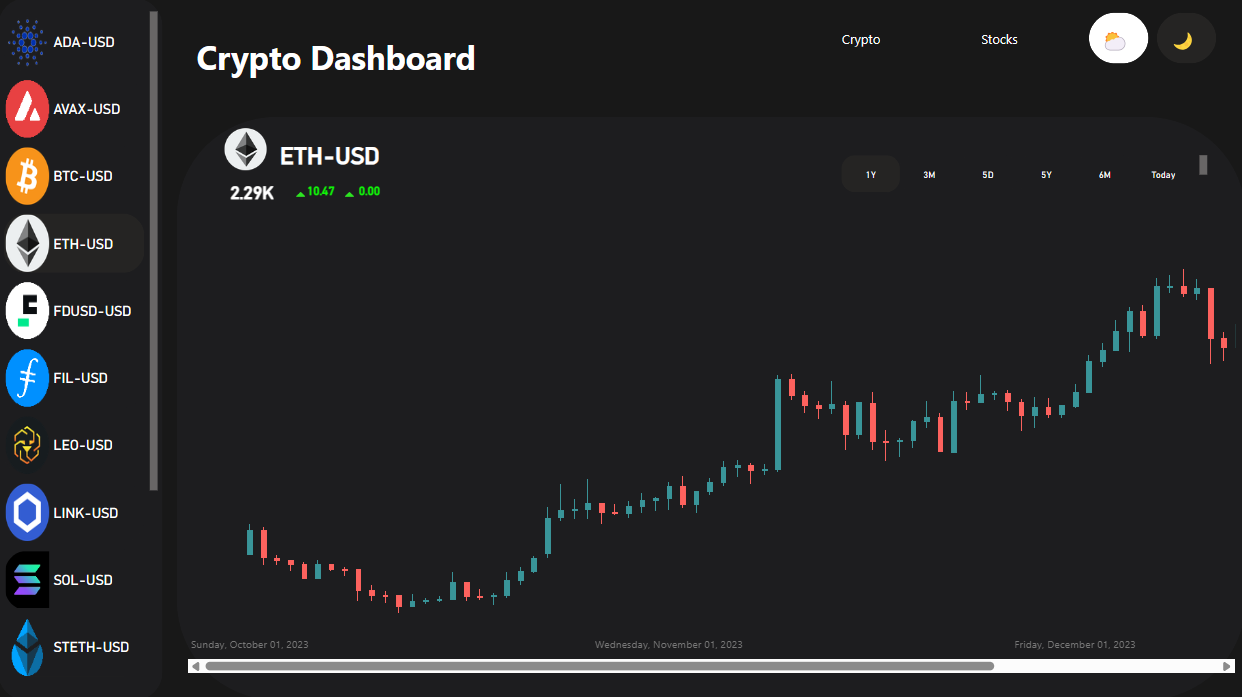

The dashboard page shown, as its layout file describes it:
{"tool":"powerbi","page":{"name":"Crypto","canvas":[1280,720],"ordinal":0},"visuals":[{"type":"shape","box":[0,0,1280.3,720.4],"z":0},{"type":"shape","box":[183.9,122.1,1096.4,598.3],"z":1000},{"type":"shape","box":[0,0,168.8,720.4],"z":2000},{"type":"PBI_CV_886A053E_9DFD_4EA0_A47D_CCAEB89AF969","fields":{"Category":["Stocks Data.Date"],"open":["Sum(Stocks Data.Open)"],"close":["Sum(Stocks Data.Close)"],"high":["Sum(Stocks Data.High)"],"low":["Sum(Stocks Data.Low)"]},"box":[183.4,212.8,1096.9,485.5],"z":3000},{"type":"advancedSlicerVisual","fields":{"Values":["Stocks Data.Symbol"]},"box":[1.4,9.6,167.4,698.5],"z":4000},{"type":"advancedSlicerVisual","fields":{"Values":["Stocks Data.Data Category"]},"box":[859.7,156.5,385.2,48.9],"z":5000},{"type":"advancedSlicerVisual","fields":{"Values":["Color Codes.Label"]},"box":[1114,9.8,141.8,62.4],"z":6000},{"type":"cardVisual","fields":{"Data":["Min(Stocks Data.Logo)"]},"box":[211.3,116.6,89.2,79.6],"z":7000},{"type":"cardVisual","fields":{"Data":["Min(Stocks Data.Symbol)"]},"box":[278.6,130.4,124.9,52.1],"z":8000},{"type":"cardVisual","fields":{"Data":["Stocks Data.Open_Value"]},"box":[211.3,164.7,98.8,54.9],"z":9000},{"type":"cardVisual","fields":{"Data":["Stocks Data.Open_Close_diff"]},"box":[291,166,80,57],"z":10000},{"type":"cardVisual","fields":{"Data":["Stocks Data.Diff_%"]},"box":[341,166,80,57],"z":11000},{"type":"cardVisual","fields":{"Data":["Min(Stocks Data.Logo)"]},"box":[288,172,43,40],"z":12000},{"type":"cardVisual","fields":{"Data":["Min(Stocks Data.Logo)"]},"box":[338,172,43,40],"z":13000},{"type":"shape","box":[198.1,9.8,454.9,100.3],"z":14000},{"type":"pageNavigator","box":[819.2,17.9,274.4,47.4],"z":14001}]}

Visuals, with their boxes in screenshot pixels (x1, y1, x2, y2), scaled from the page's 1280x720 canvas onto the 1242x697 screenshot:
shape: {"left": 0, "top": 0, "right": 1241, "bottom": 696}
shape: {"left": 178, "top": 118, "right": 1241, "bottom": 696}
shape: {"left": 0, "top": 0, "right": 164, "bottom": 696}
PBI_CV_886A053E_9DFD_4EA0_A47D_CCAEB89AF969 - Stocks Data.Date x Sum(Stocks Data.Open): {"left": 178, "top": 206, "right": 1241, "bottom": 676}
advancedSlicerVisual - Stocks Data.Symbol: {"left": 1, "top": 9, "right": 164, "bottom": 685}
advancedSlicerVisual - Stocks Data.Data Category: {"left": 834, "top": 152, "right": 1208, "bottom": 199}
advancedSlicerVisual - Color Codes.Label: {"left": 1081, "top": 9, "right": 1219, "bottom": 70}
cardVisual - Min(Stocks Data.Logo): {"left": 205, "top": 113, "right": 292, "bottom": 190}
cardVisual - Min(Stocks Data.Symbol): {"left": 270, "top": 126, "right": 392, "bottom": 177}
cardVisual - Stocks Data.Open_Value: {"left": 205, "top": 159, "right": 301, "bottom": 213}
cardVisual - Stocks Data.Open_Close_diff: {"left": 282, "top": 161, "right": 360, "bottom": 216}
cardVisual - Stocks Data.Diff_%: {"left": 331, "top": 161, "right": 409, "bottom": 216}
cardVisual - Min(Stocks Data.Logo): {"left": 279, "top": 167, "right": 321, "bottom": 205}
cardVisual - Min(Stocks Data.Logo): {"left": 328, "top": 167, "right": 370, "bottom": 205}
shape: {"left": 192, "top": 9, "right": 634, "bottom": 107}
pageNavigator: {"left": 795, "top": 17, "right": 1061, "bottom": 63}
